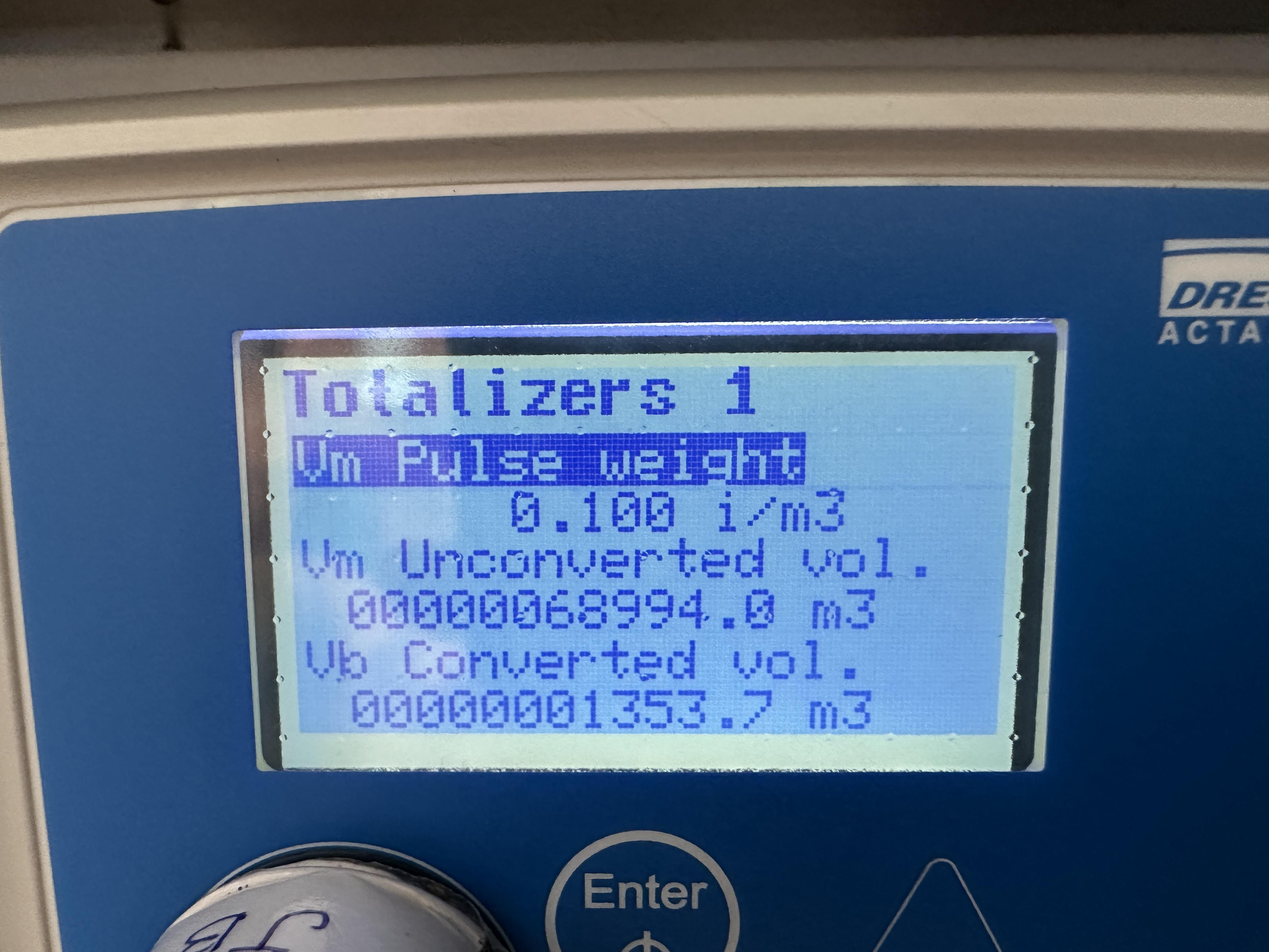digital_screen: (267, 352, 1039, 778)
